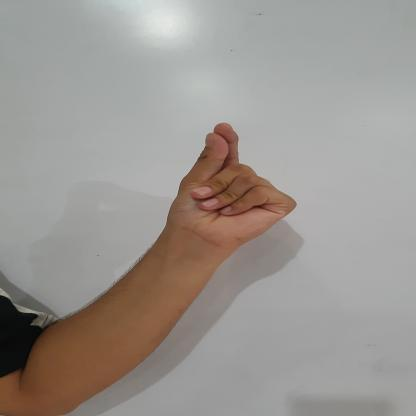R: (145, 121, 303, 248)
